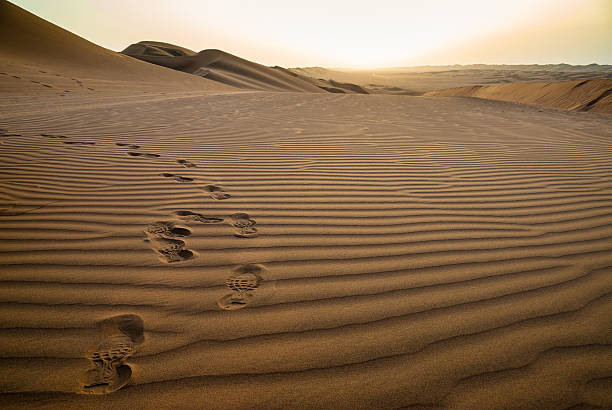human_foot_print: (80, 314, 144, 393), (217, 264, 264, 309), (144, 221, 194, 262), (149, 237, 193, 262), (230, 212, 257, 237), (174, 210, 223, 223), (203, 184, 230, 199), (162, 173, 193, 182), (127, 152, 159, 157), (115, 143, 139, 149), (177, 159, 195, 167), (39, 133, 67, 138), (62, 141, 94, 144)
